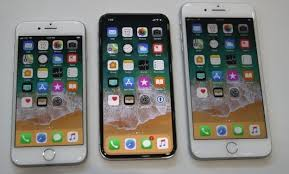iphone: (180, 1, 273, 162), (12, 19, 92, 163), (95, 13, 175, 157)
